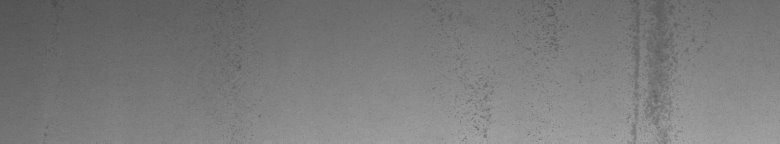ib: (461, 4, 559, 136)
